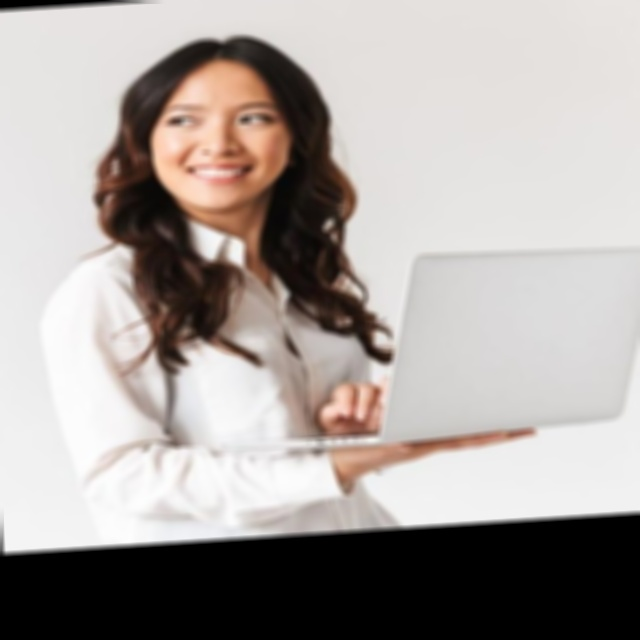Sin_Casco_Mascarrilla: (112, 31, 325, 217)
Sin_Chaleco: (42, 222, 383, 544)
